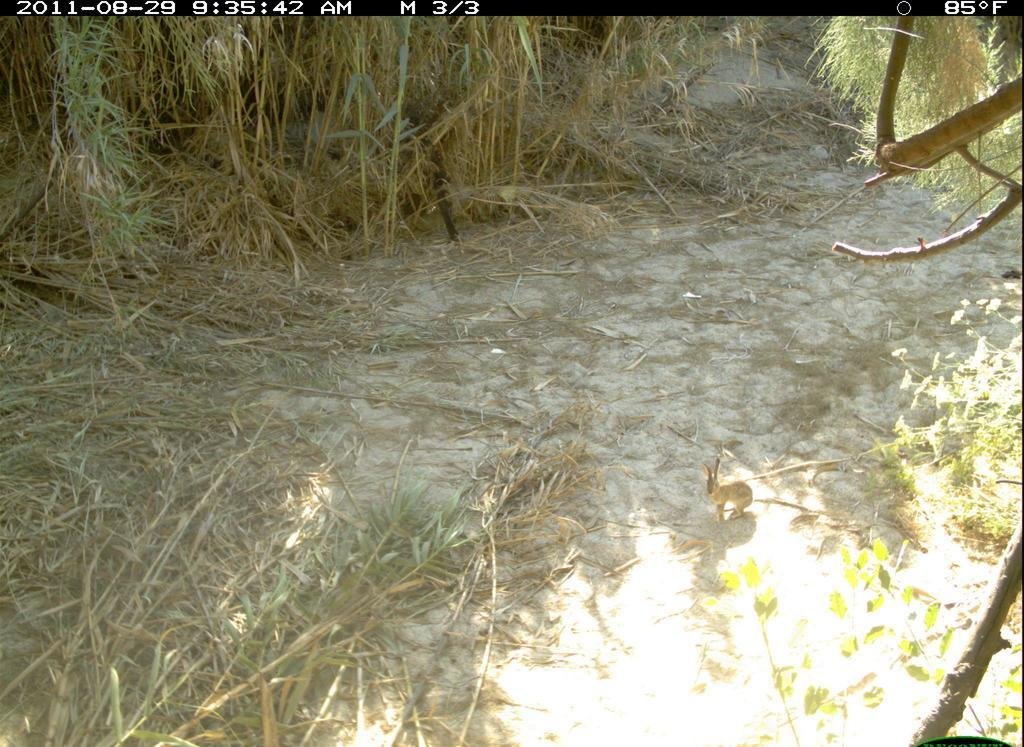rabbit: (658, 436, 789, 538)
